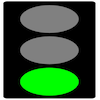green: (37, 50, 60, 77)
